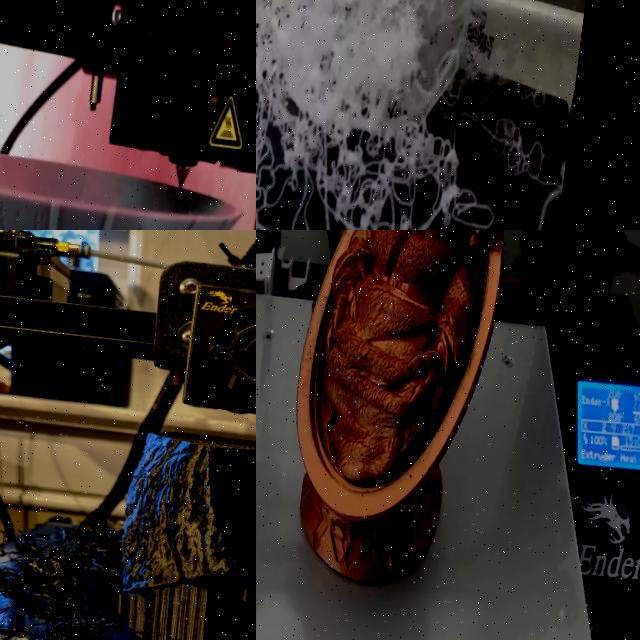spaghetti: (256, 0, 595, 230), (0, 509, 127, 640)
